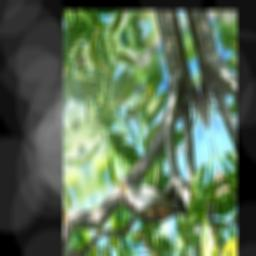Cuckoo: (116, 152, 188, 244)
